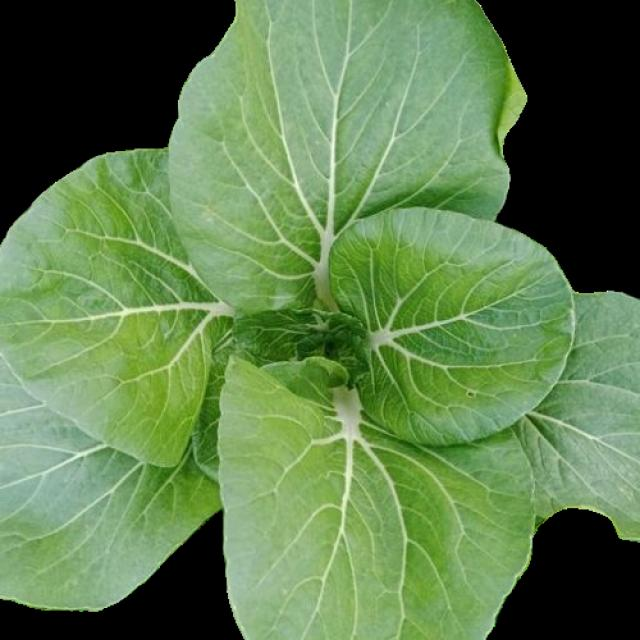healthy: (1, 1, 640, 640)
mature: (1, 1, 640, 640)
unhealthy: (329, 209, 571, 444)
